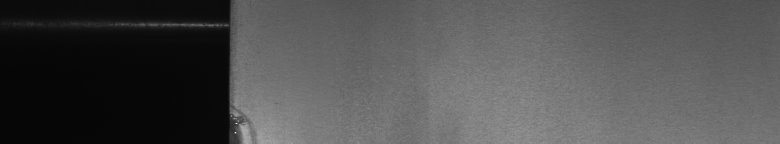hb: (240, 106, 260, 136)
